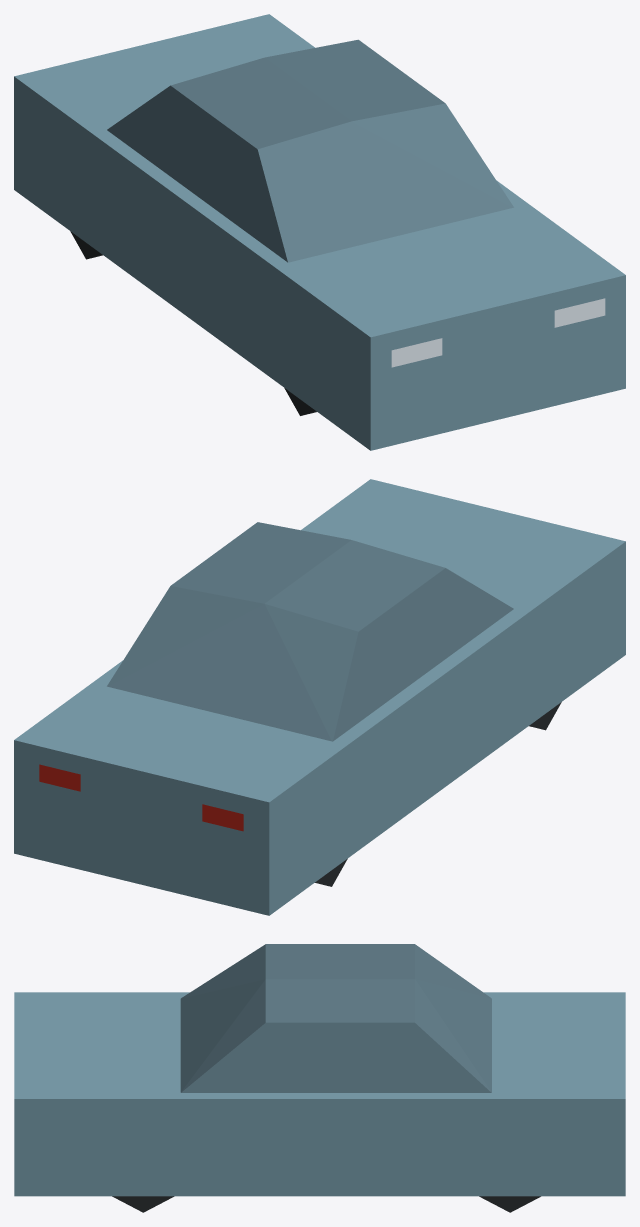
File: traffic-sedan.lod2.glb
3 renders of one model, top to bottom at view 1: azimuth 30°, elevation 25°; view 2: azimuth 150°, elevation 25°; view 3: azimuth 270°, elevation 25°, orthographic. The views are drawn at different scales.
Parts seen in each view (by area): view 1: body-shell, glass, trim; view 2: body-shell, glass, trim; view 3: body-shell, glass, trim.
Boxes of the visible parts, x1,y1,x2,y2 form: body-shell: [14, 14, 625, 450]; glass: [107, 39, 605, 367]; trim: [70, 231, 316, 415]; body-shell: [14, 479, 625, 915]; glass: [39, 522, 513, 831]; trim: [315, 702, 561, 886]; body-shell: [14, 992, 625, 1196]; glass: [180, 944, 491, 1092]; trim: [112, 1196, 540, 1212].
Bounding box in the file's own units: 1.86 × 1.48 × 4.5.
